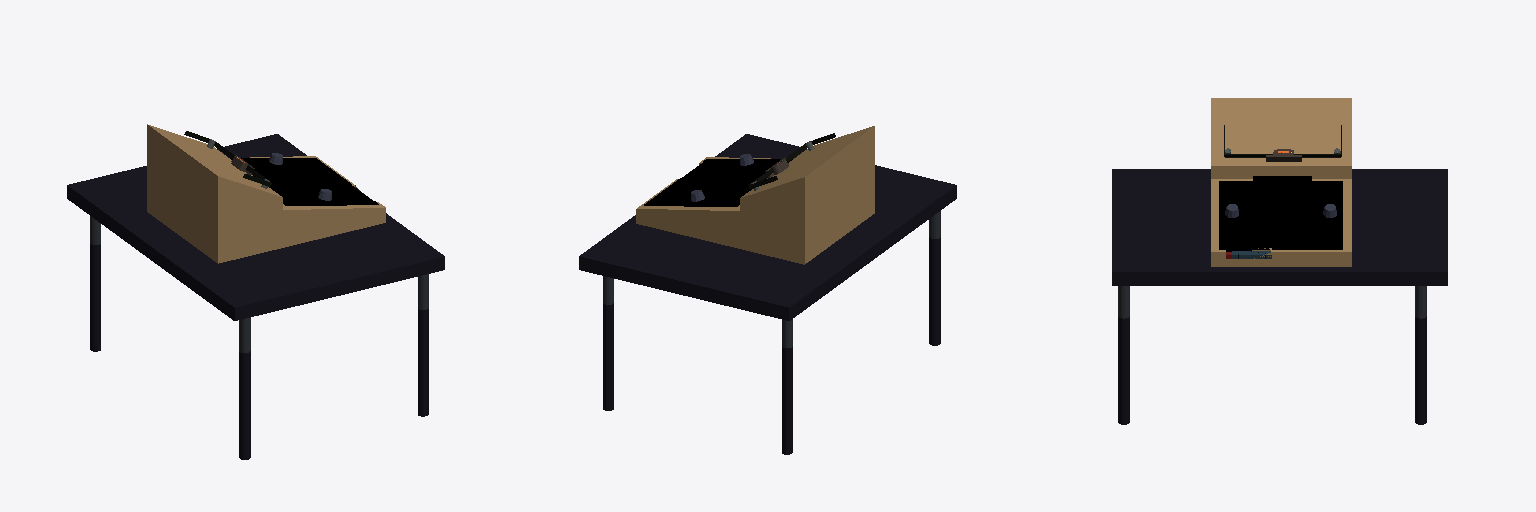
The picture shows the model from 3 angles: view 1: azimuth 30°, elevation 25°; view 2: azimuth 150°, elevation 25°; view 3: azimuth 270°, elevation 25°; orthographic projection.
Parts seen in each view (by area): view 1: reproductor1:polySurface24, reproductor1:pCube3polySurface1polySurface3, reproductor1:polySurface2pCube3, reproductor1:pCube7; view 2: reproductor1:polySurface24, reproductor1:pCube3polySurface1polySurface3, reproductor1:polySurface2pCube3, reproductor1:pCube7; view 3: reproductor1:polySurface24, reproductor1:pCube3polySurface1polySurface3, reproductor1:polySurface2pCube3, reproductor1:pCube7.
Part boxes in pixels (x1,y1,x2,y2): reproductor1:polySurface24: (67,134,444,459); reproductor1:pCube3polySurface1polySurface3: (147,124,385,263); reproductor1:polySurface2pCube3: (230,158,378,205); reproductor1:pCube7: (252,166,303,190); reproductor1:polySurface24: (579,134,956,454); reproductor1:pCube3polySurface1polySurface3: (636,126,874,264); reproductor1:polySurface2pCube3: (644,159,792,206); reproductor1:pCube7: (717,168,768,192); reproductor1:polySurface24: (1112,169,1447,424); reproductor1:pCube3polySurface1polySurface3: (1211,98,1351,266); reproductor1:polySurface2pCube3: (1219,181,1342,251); reproductor1:pCube7: (1253,176,1311,205).
Size of the model in its own units: 2.23 by 2.49 by 3.07.
11 materials, 8 textured.